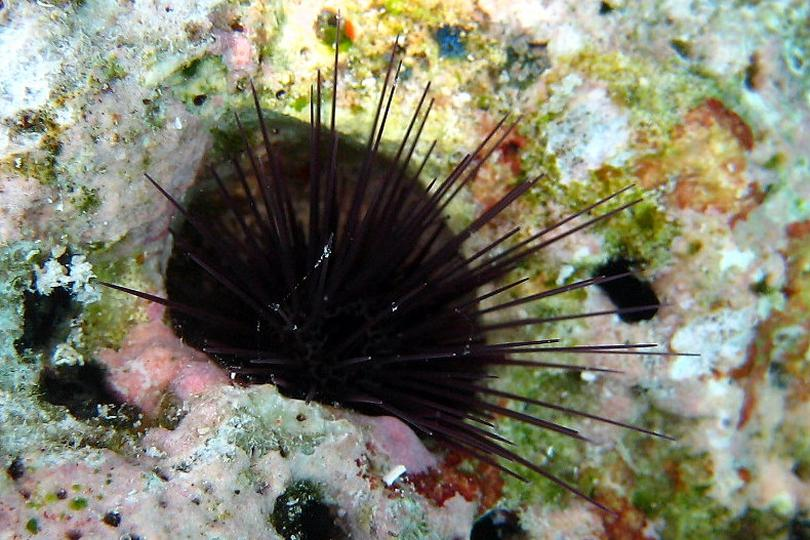urchin: (96, 9, 703, 513)
